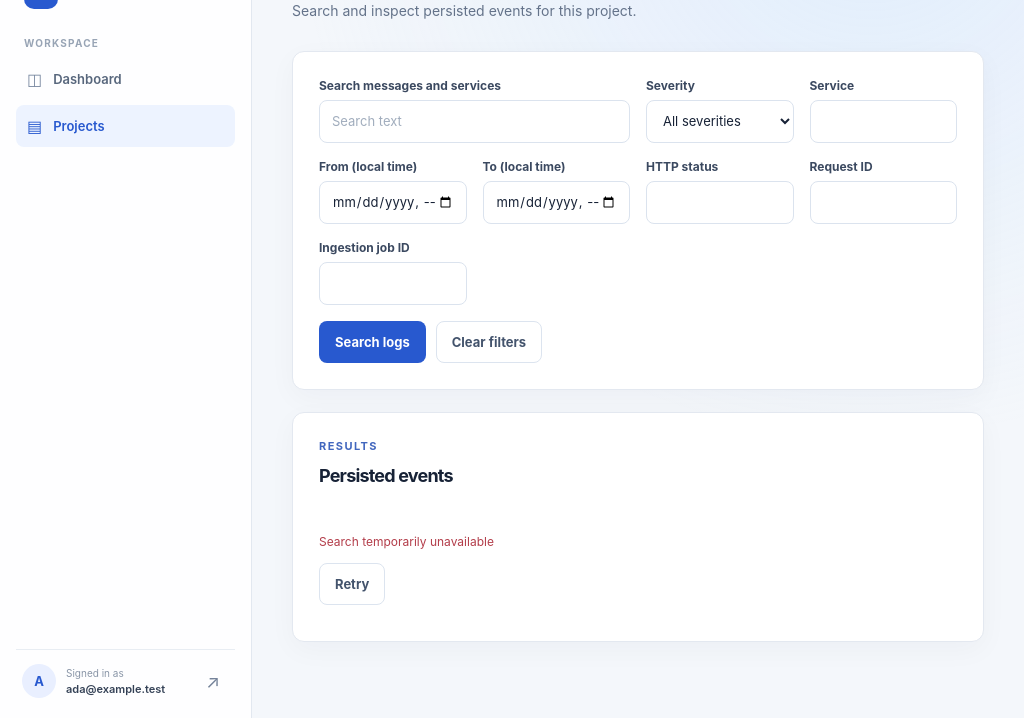
Test: Log Explorer › paginates with the server cursor and provides loading, error, and retry states
(page scrolled)
Expected: the message reads "Search temporarily unavailable", [319,534,494,549]
Click the button "Retry" at point(352, 584), box [319,563,385,605]
(page scrolled)
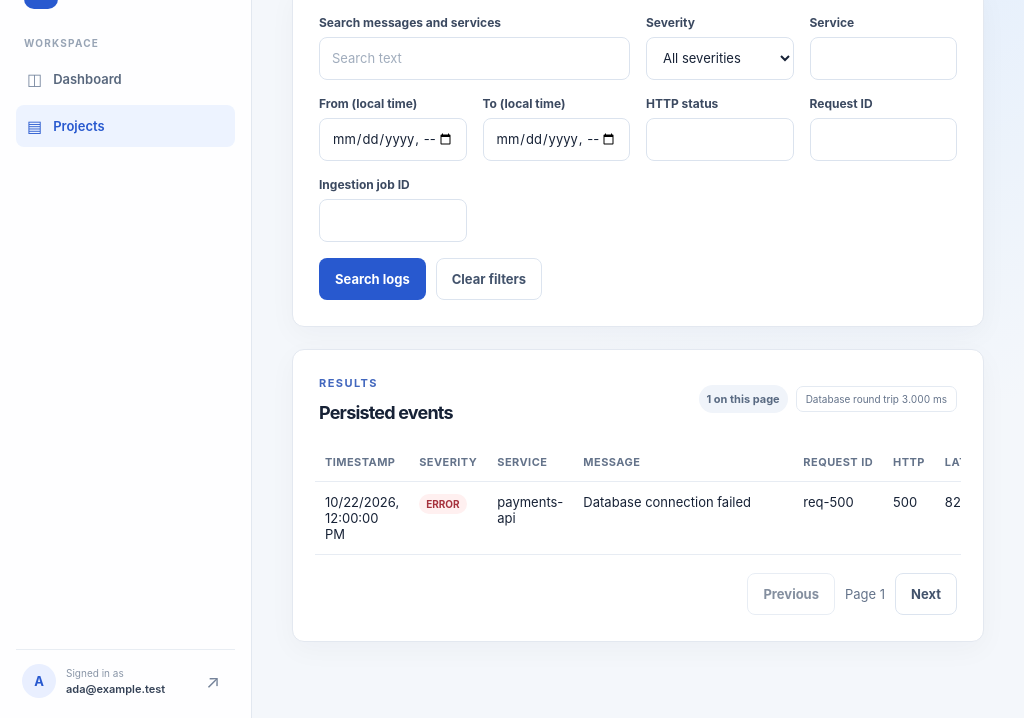
Expected: the text "Database connection failed" is shown, [573,481,793,554]
Click the button "Next" at point(926, 594), box [895,573,957,615]
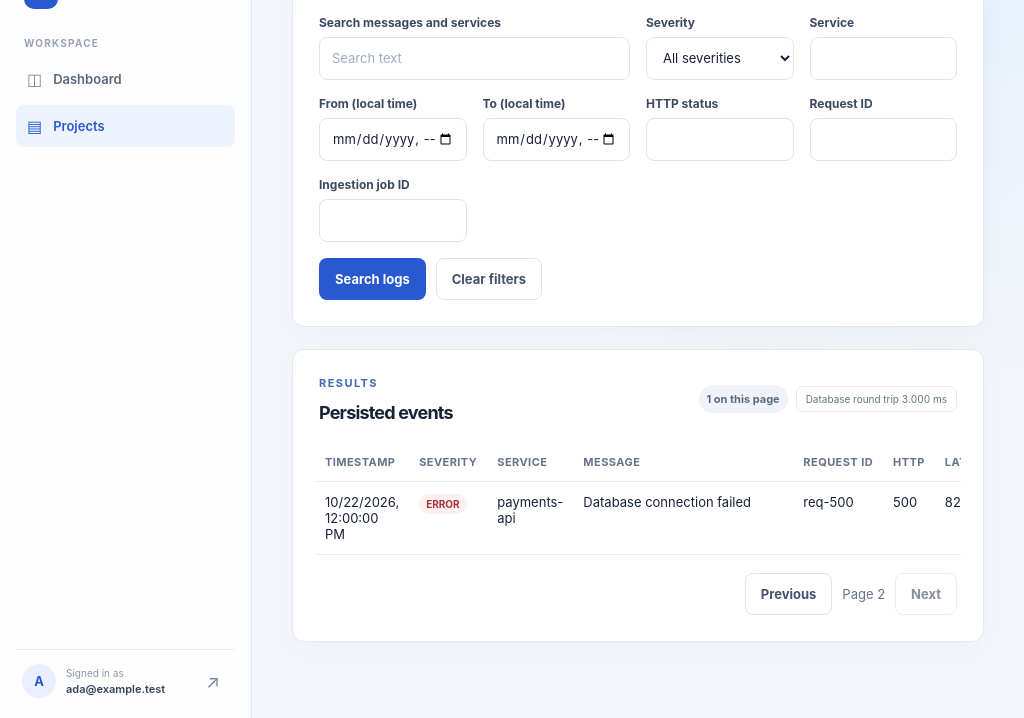
Expected: the text "Page 2" is shown, [842,586,885,602]
Click the button "Previous" at point(789, 594), box [745,573,832,615]
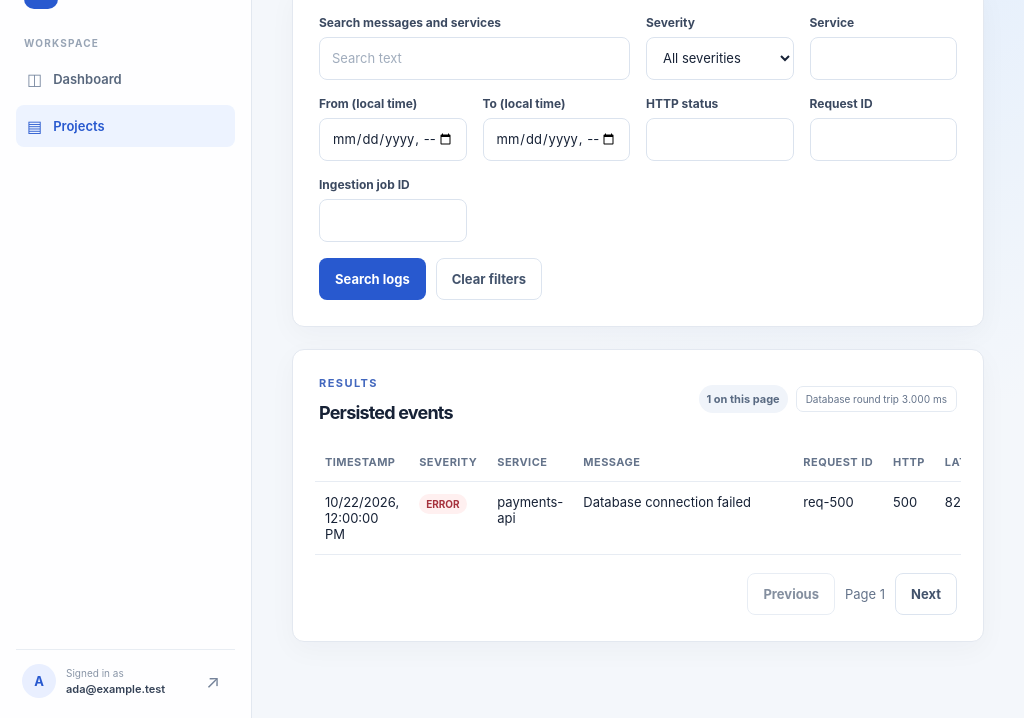
Expected: the text "Page 1" is shown, [845,586,885,602]
